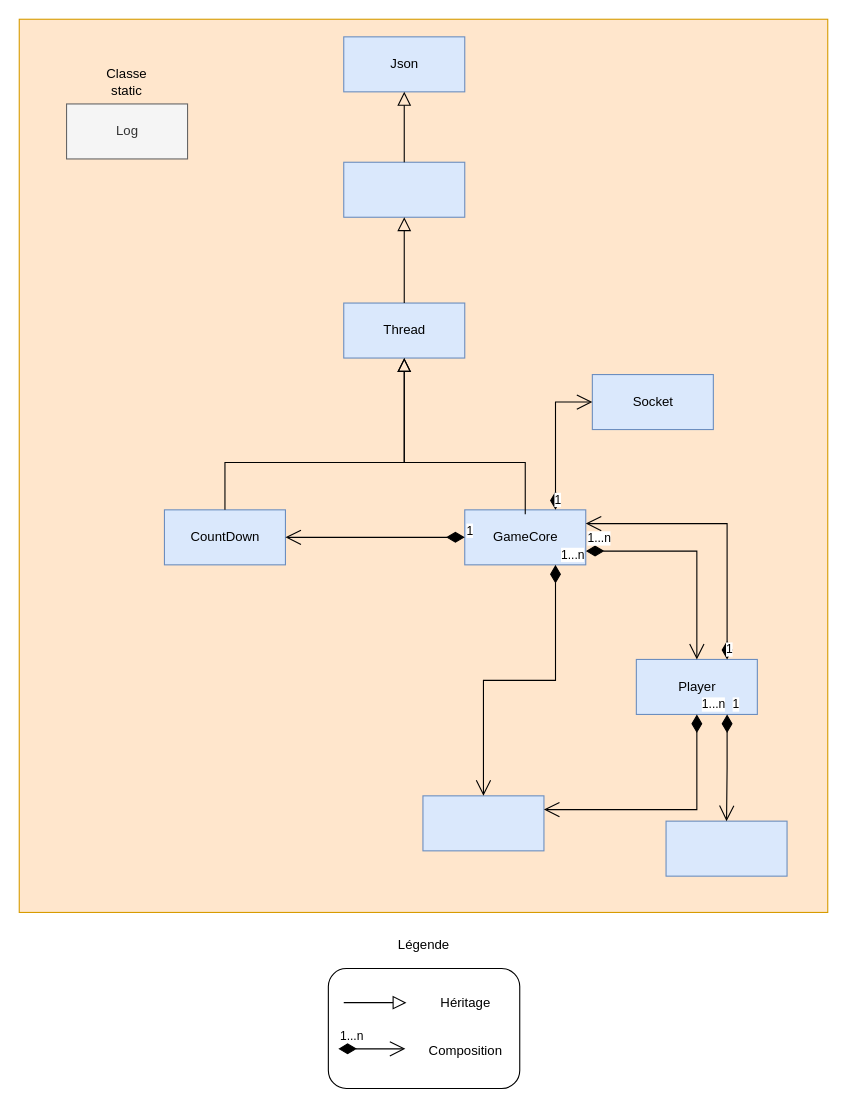
The diagram is 847 pixels wide and 1108 high, and some of its shapes have lost their labels. The shapes that lost their labels are listed below. From the top down, each one's centre as x and y in pixels, then its label:
the point at 404,189: Response
the point at 483,823: Card
the point at 726,848: Request
